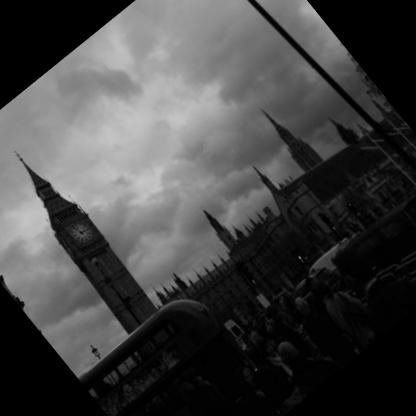bus: (67, 263, 297, 416)
